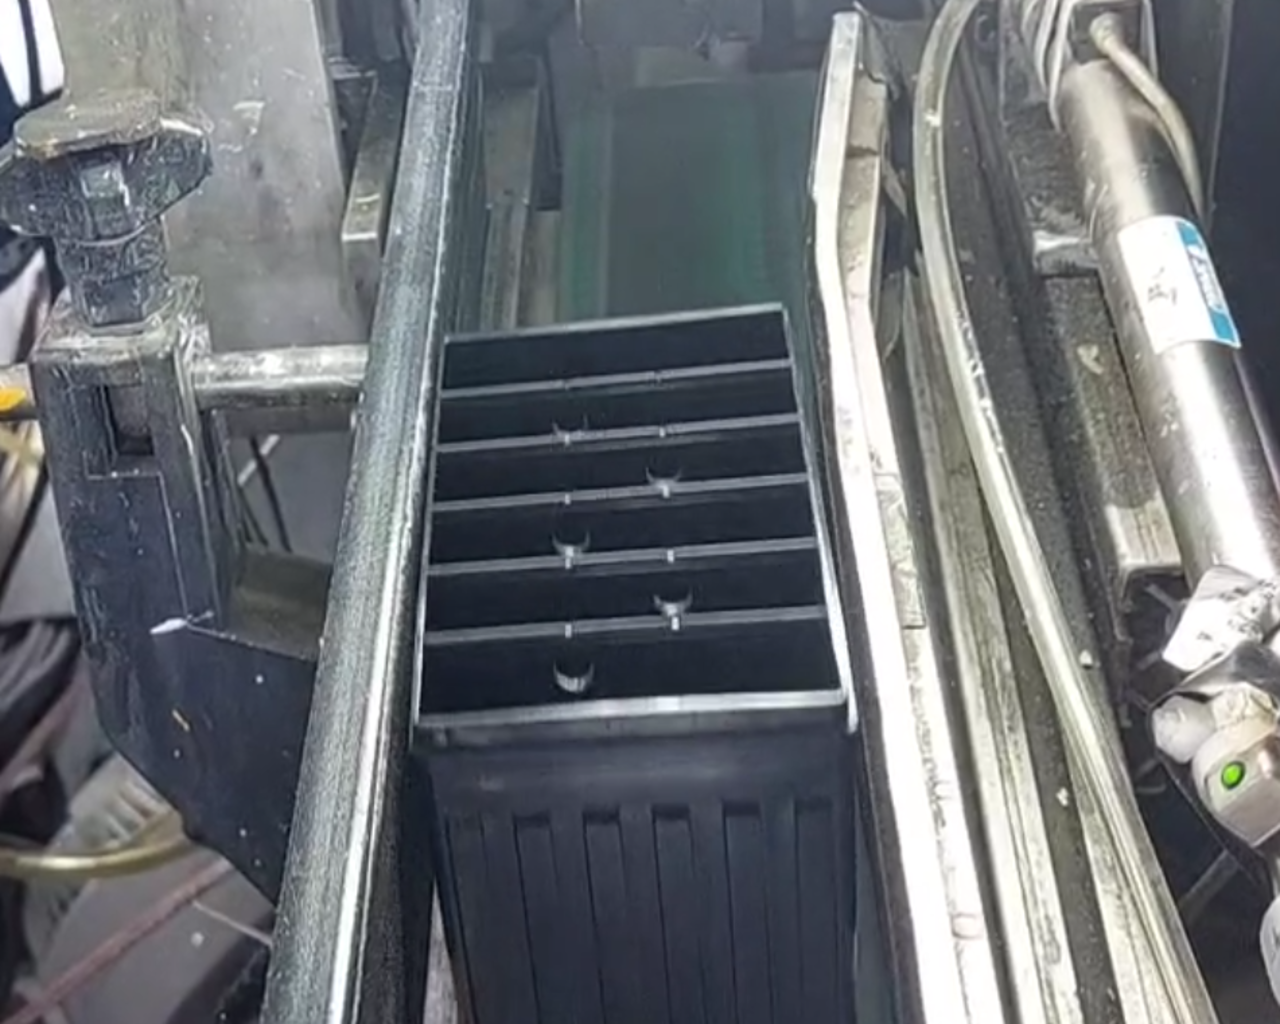box: (387, 286, 884, 779)
round: (541, 641, 609, 698), (638, 563, 703, 621), (540, 509, 603, 562), (540, 388, 598, 443), (633, 443, 692, 494)
